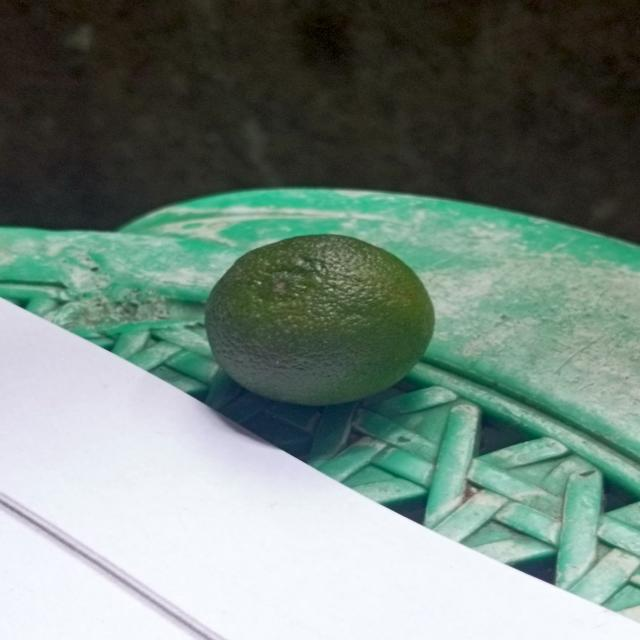heathy: (203, 234, 442, 409)
